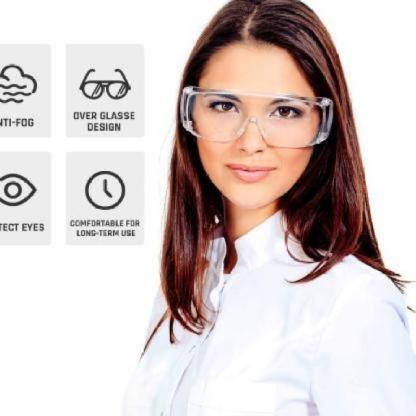oculos: (177, 73, 344, 153)
